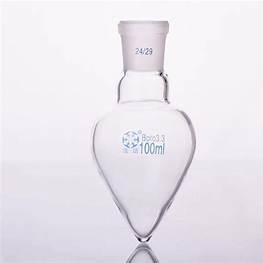Pear shaped flask: (86, 20, 194, 248)
